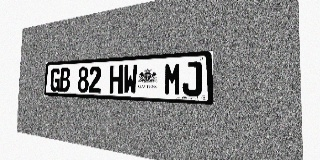2: (88, 66, 101, 93)
8: (77, 67, 89, 93)
B: (60, 67, 70, 92)
G: (50, 68, 60, 92)
H: (109, 65, 123, 94)
J: (182, 61, 202, 97)
M: (164, 62, 182, 96)
W: (123, 64, 138, 94)
